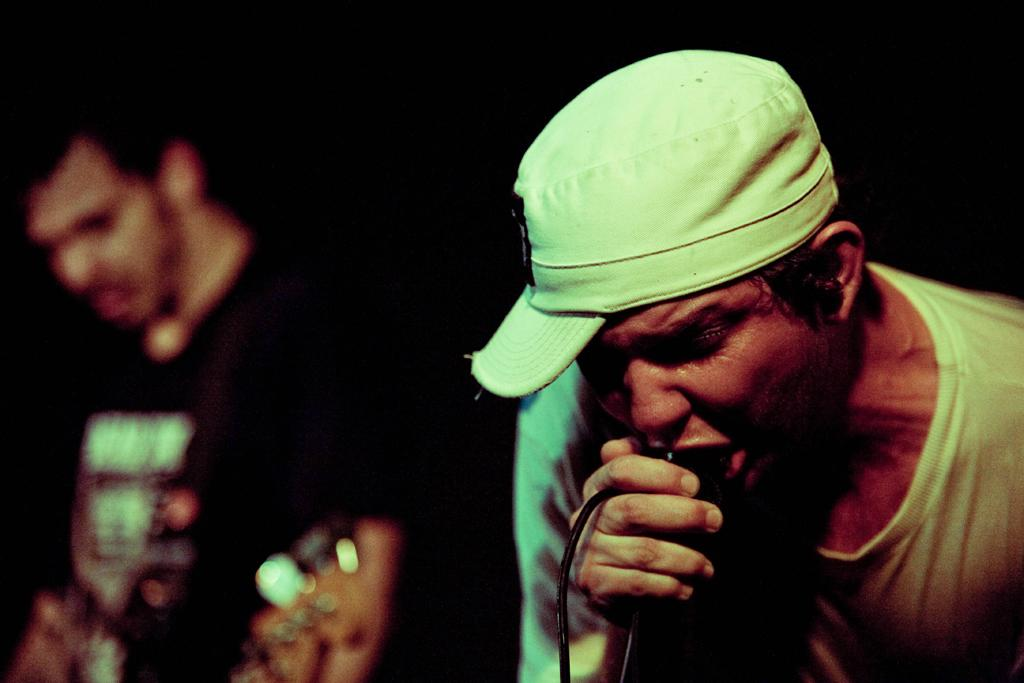Hat: (468, 49, 838, 398)
